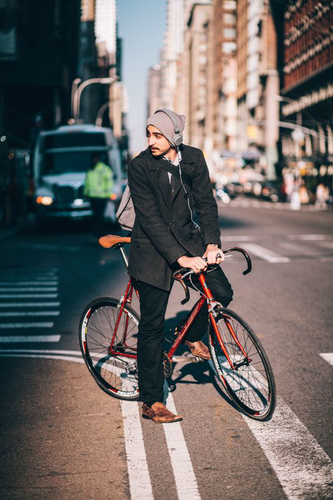bikerider: (76, 101, 287, 452)
